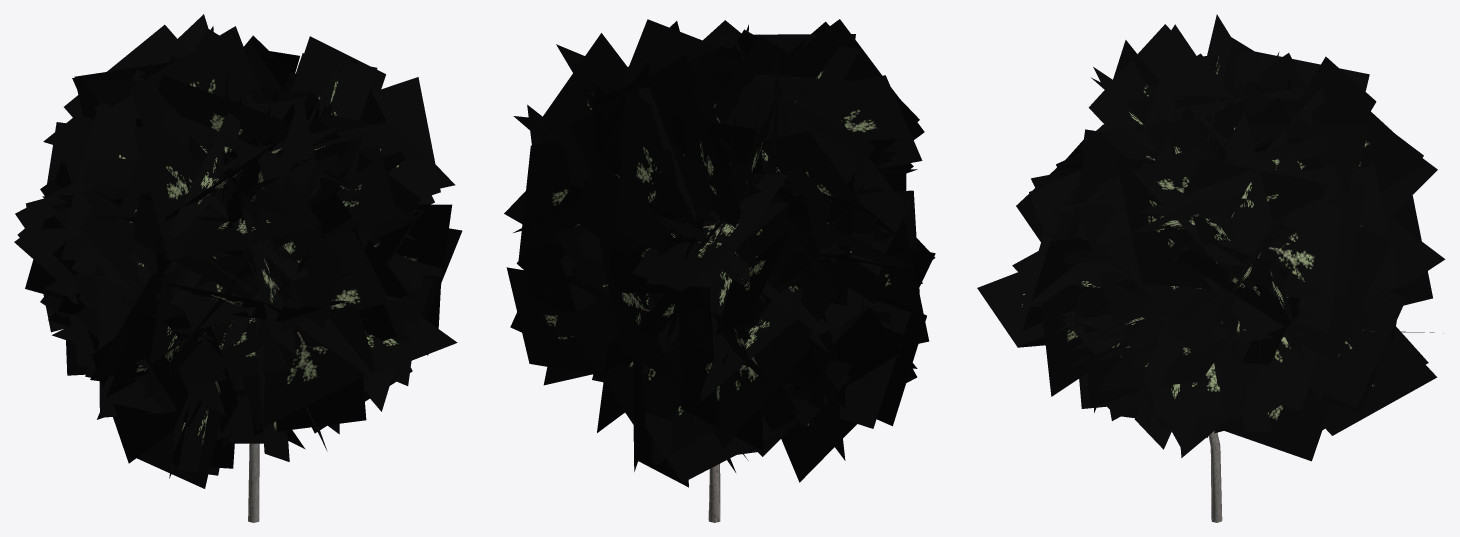
The model's file is thinTree.obj.
3 views of the same model, side by side, from view 1: azimuth 30°, elevation 25°; view 2: azimuth 150°, elevation 25°; view 3: azimuth 270°, elevation 25° (orthographic). The views are drawn at different scales.
Visible parts, largest first — view 1: trunk; view 2: trunk; view 3: trunk.
Boxes of the visible parts, <box> form: trunk: <box>14,14,462,522</box>; trunk: <box>504,19,935,522</box>; trunk: <box>977,14,1445,522</box>.
Bounding box in the file's own units: 20.78 × 25.27 × 22.58.
